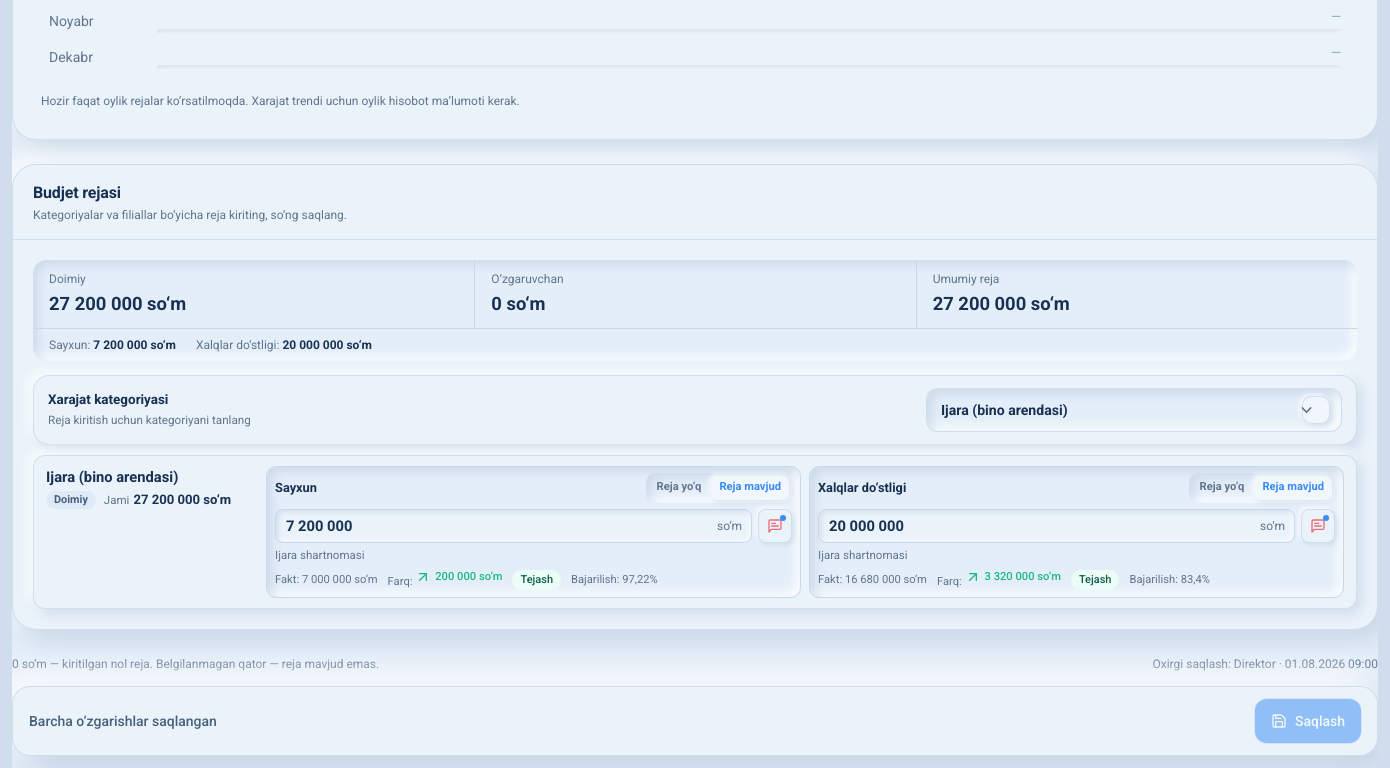
Test: Budjet sahifasi › kategoriya kartasi filiallarni birlashtiradi va summani formatlaydi
(page scrolled)
expect the element "Ijara (bino arendasi)" is shown: met, box top-left (33, 455), bottom-right (1357, 609)
expect the text "Sayxun" is shown: met, box top-left (275, 478), bottom-right (317, 497)
Replace the text in the field named "Sayxun, Ijara (bino arendasi) reja summasi" with "8000000" at (514, 526), box top-left (275, 509), bottom-right (752, 543)
(page scrolled)
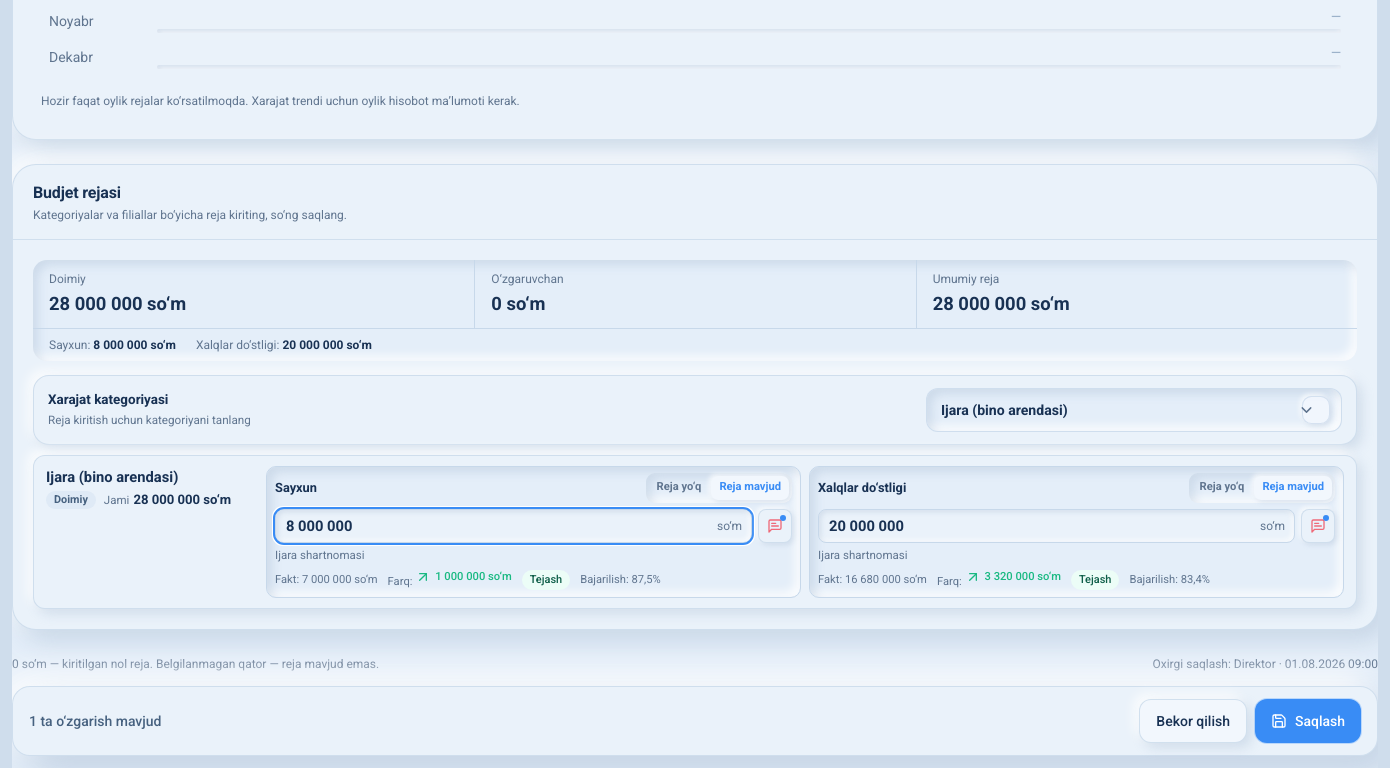
expect the element named "Budjetni saqlash" shows "1 ta o‘zgarish mavjud": met, box top-left (29, 713), bottom-right (162, 729)
expect the field named "Sayxun, Ijara (bino arendasi) reja summasi" holds "8 000 000": met, box top-left (275, 509), bottom-right (752, 543)
